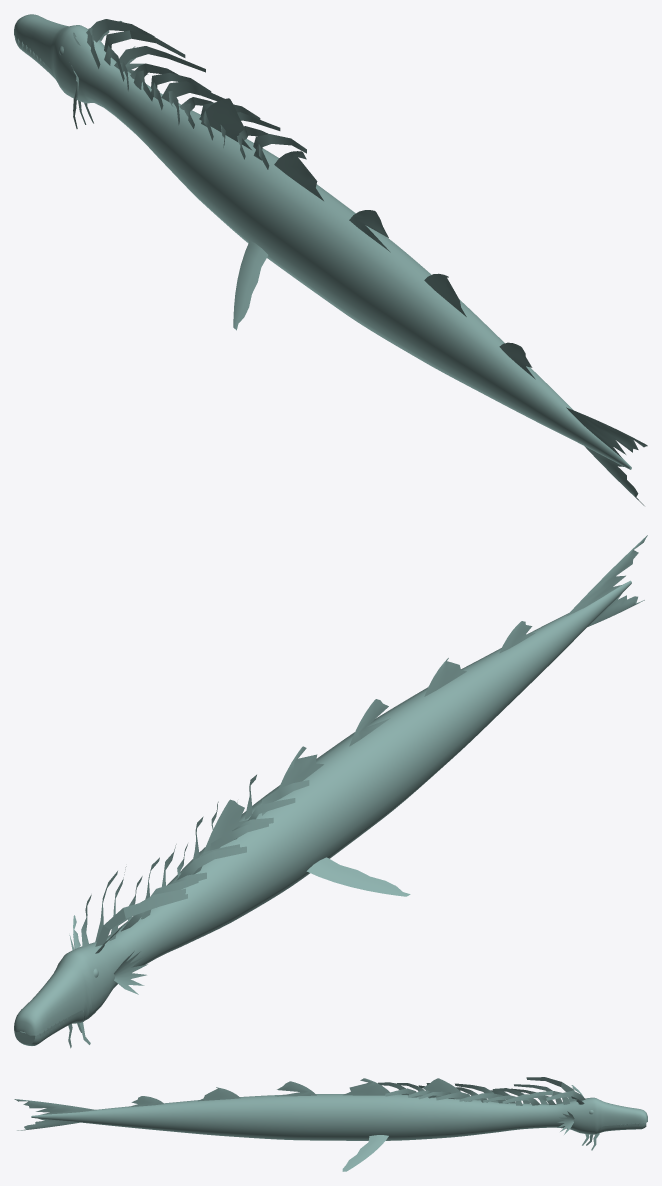
The model's file is sea_serpent_game.glb.
3 renders of one model, top to bottom at view 1: azimuth 30°, elevation 25°; view 2: azimuth 150°, elevation 25°; view 3: azimuth 270°, elevation 25°, orthographic. The views are drawn at different scales.
Parts seen in each view (by area): view 1: sea_serpent_game; view 2: sea_serpent_game; view 3: sea_serpent_game.
Part boxes in pixels (x1,y1,x2,y2): sea_serpent_game: (14, 14, 647, 505); sea_serpent_game: (14, 535, 647, 1048); sea_serpent_game: (14, 1077, 647, 1171).
Bounding box in the file's own units: 4.02 × 3.13 × 24.99.
